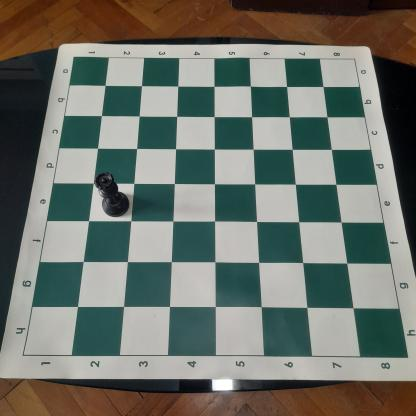black-queen: (93, 171, 131, 219)
